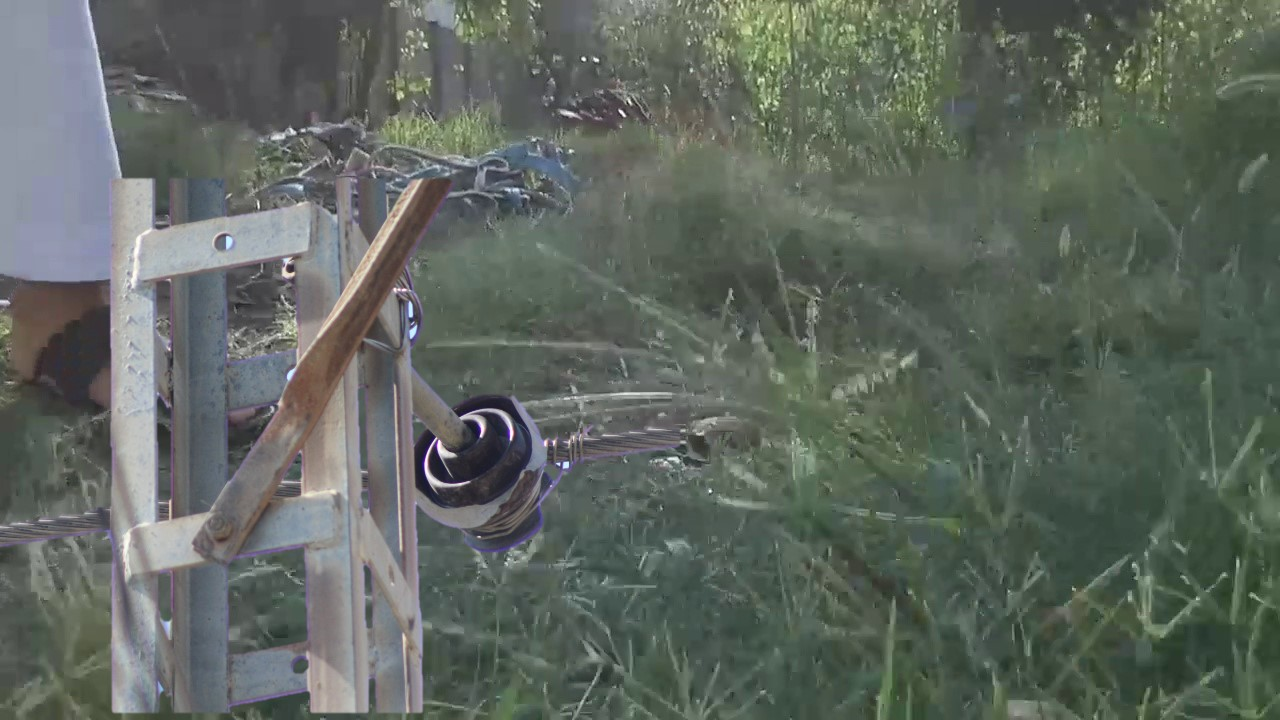defect_pin: (412, 388, 554, 560)
